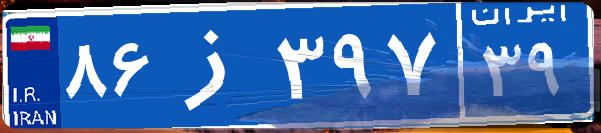3: (273, 28, 330, 110), (475, 38, 525, 113)
6: (110, 28, 158, 105)
7: (385, 28, 445, 110)
8: (57, 26, 110, 107)
9: (330, 28, 385, 110), (525, 38, 570, 115)
ز: (158, 15, 273, 115)
